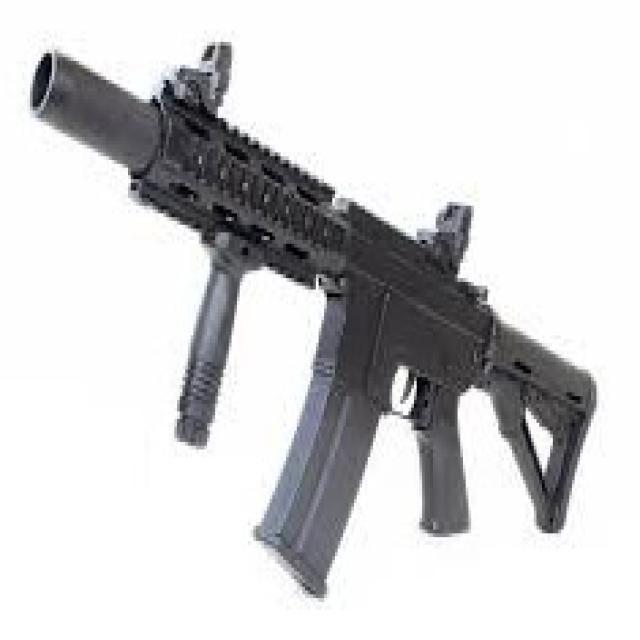rifle: (24, 28, 607, 610)
